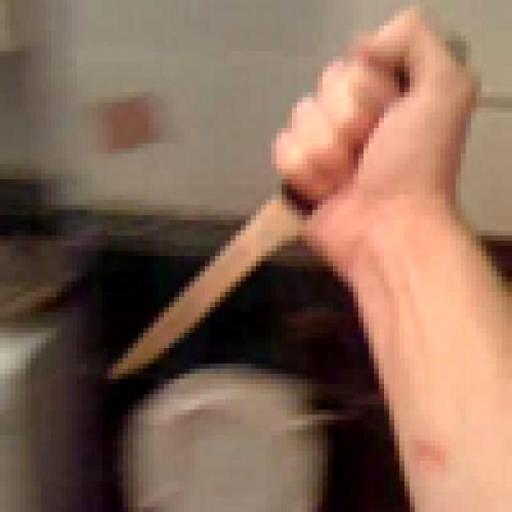knife: (103, 0, 451, 400)
